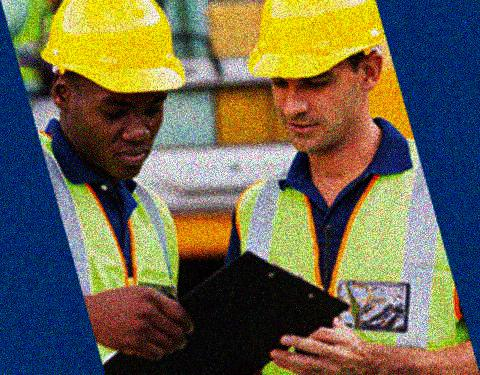helmet: (40, 1, 186, 181), (249, 1, 387, 154)
